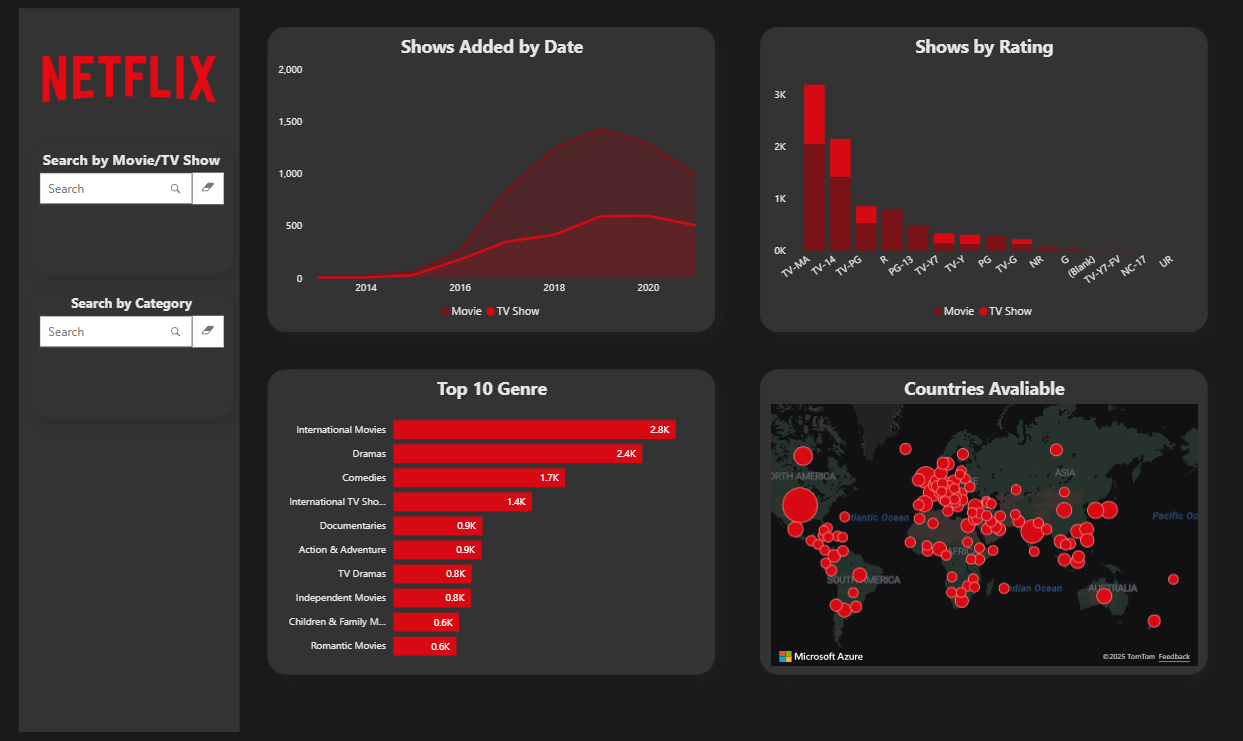

The dashboard page shown, as its layout file describes it:
{"tool":"powerbi","page":{"name":"Overview ","canvas":[1500,900],"ordinal":0},"visuals":[{"type":"shape","box":[23.3,13.3,266.7,873.3],"z":0},{"type":"areaChart","title":"Shows Added by Date","fields":{"Category":["netflix_data titles.date_added.Variation.Date Hierarchy.Year"],"Y":["CountNonNull(netflix_data titles.show_id)"],"Series":["netflix_data titles.type"]},"box":[323.3,36.7,540,368.3],"z":1000},{"type":"columnChart","title":"Shows by Rating","fields":{"Category":["netflix_data titles.rating"],"Y":["CountNonNull(netflix_data titles.show_id)"],"Series":["netflix_data titles.type"]},"box":[916.7,36.7,540,368.3],"z":3000},{"type":"map","title":"Countries Avaliable ","fields":{"Category":["netflix_data countries_released.country"],"Size":["CountNonNull(netflix_data countries_released.show_id)"]},"box":[916.7,450,540,368.3],"z":4000},{"type":"image","box":[23.3,13.3,266.7,163.3],"z":5000},{"type":"textFilter25A4896A83E0487089E2B90C9AE57C8A","title":"Search by Category","fields":{"field":["netflix_data netflix_listed_in.category"]},"box":[35,350,246.7,158.3],"z":6000},{"type":"textFilter25A4896A83E0487089E2B90C9AE57C8A","title":"Search by Movie/TV Show","fields":{"field":["netflix_data titles.title"]},"box":[35,176.7,246.7,158.3],"z":6001},{"type":"barChart","title":"Top 10 Genre ","fields":{"Category":["netflix_data netflix_listed_in.category"],"Y":["CountNonNull(netflix_data netflix_listed_in.show_id)"]},"box":[323.3,450,540,368.3],"z":6002}]}

Visuals, with their boxes in screenshot pixels (x1, y1, x2, y2), scaled from the page's 1500x900 canvas onto the 1243x741 screenshot:
shape: x1=19, y1=11, x2=240, y2=730
"Shows Added by Date" areaChart: x1=268, y1=30, x2=715, y2=333
"Shows by Rating" columnChart: x1=760, y1=30, x2=1207, y2=333
"Countries Avaliable " map: x1=760, y1=370, x2=1207, y2=674
image: x1=19, y1=11, x2=240, y2=145
"Search by Category" textFilter25A4896A83E0487089E2B90C9AE57C8A: x1=29, y1=288, x2=233, y2=419
"Search by Movie/TV Show" textFilter25A4896A83E0487089E2B90C9AE57C8A: x1=29, y1=145, x2=233, y2=276
"Top 10 Genre " barChart: x1=268, y1=370, x2=715, y2=674
